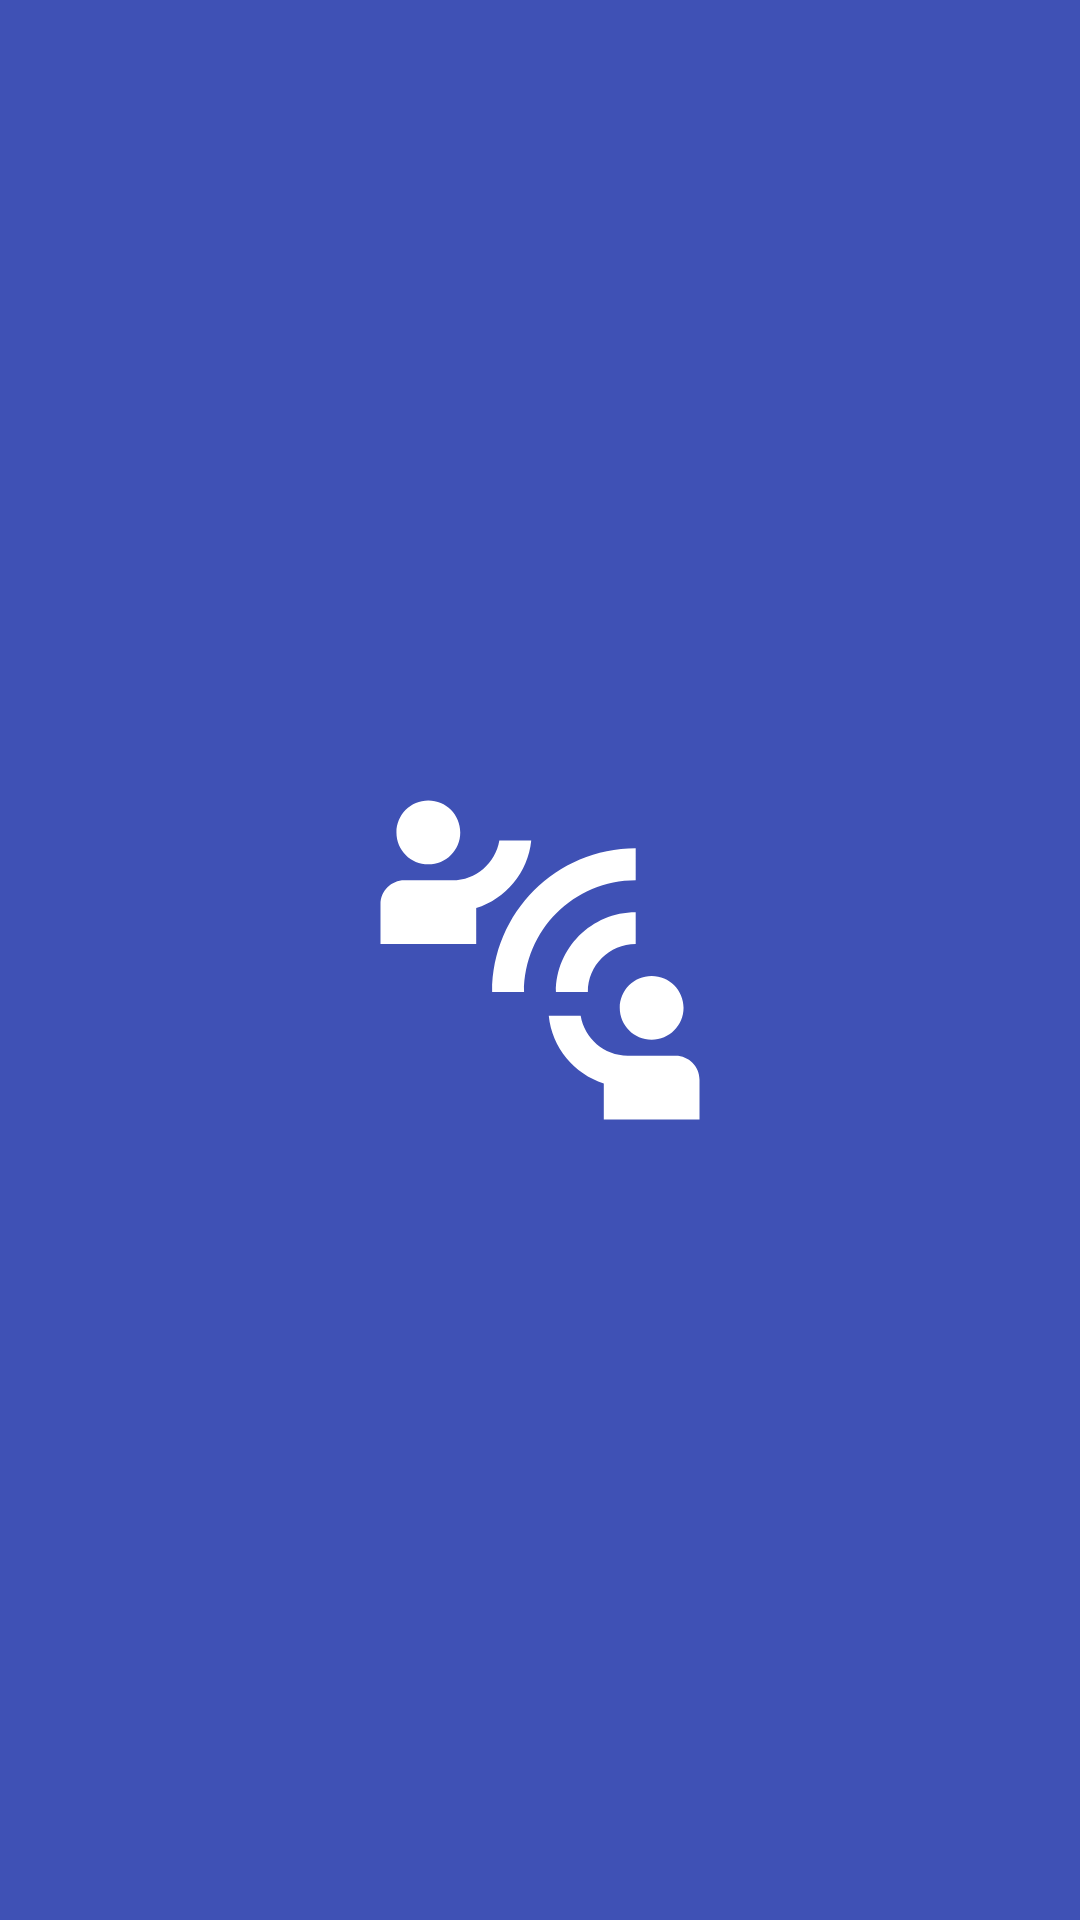

Icons on this 1080w x 1920h Android screen, each with its box as {"x1": x1, "y1": y1, "x2": x2, "y2": y2}:
hellobuddy: {"x1": 380, "y1": 800, "x2": 700, "y2": 1120}
